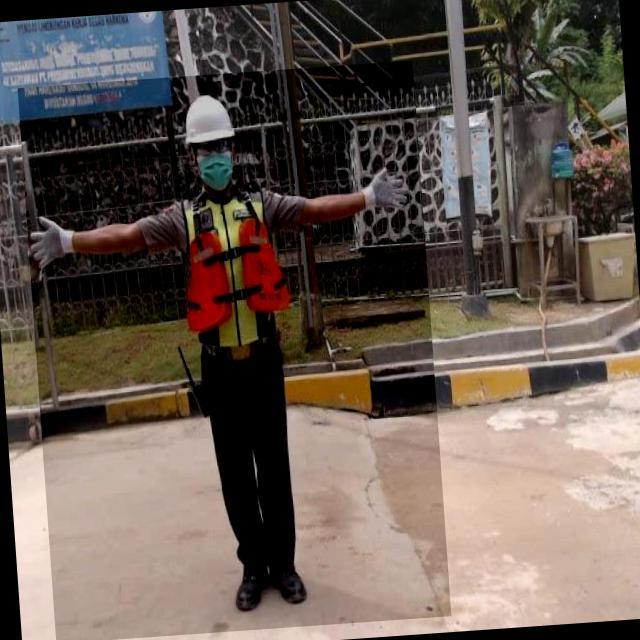Helmet: (176, 86, 243, 159)
Human: (17, 60, 451, 640)
Safety Boot: (230, 558, 275, 617), (269, 557, 314, 612)
Safety Vest: (169, 184, 299, 355)
